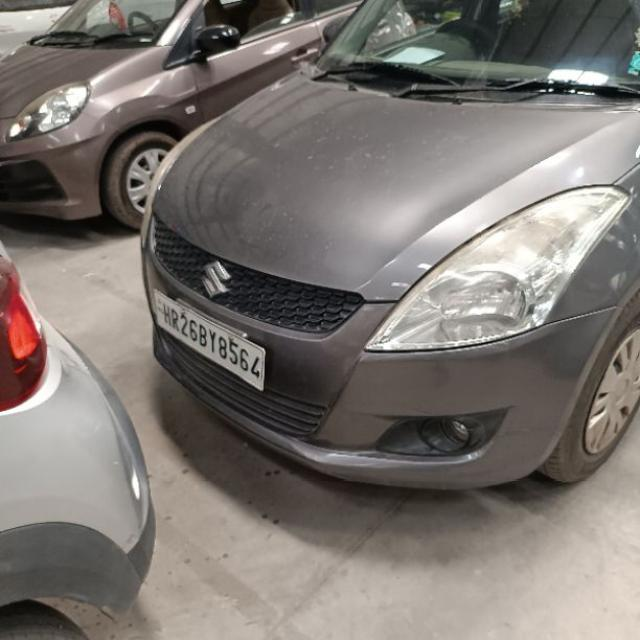license_plate: (148, 287, 266, 392)
